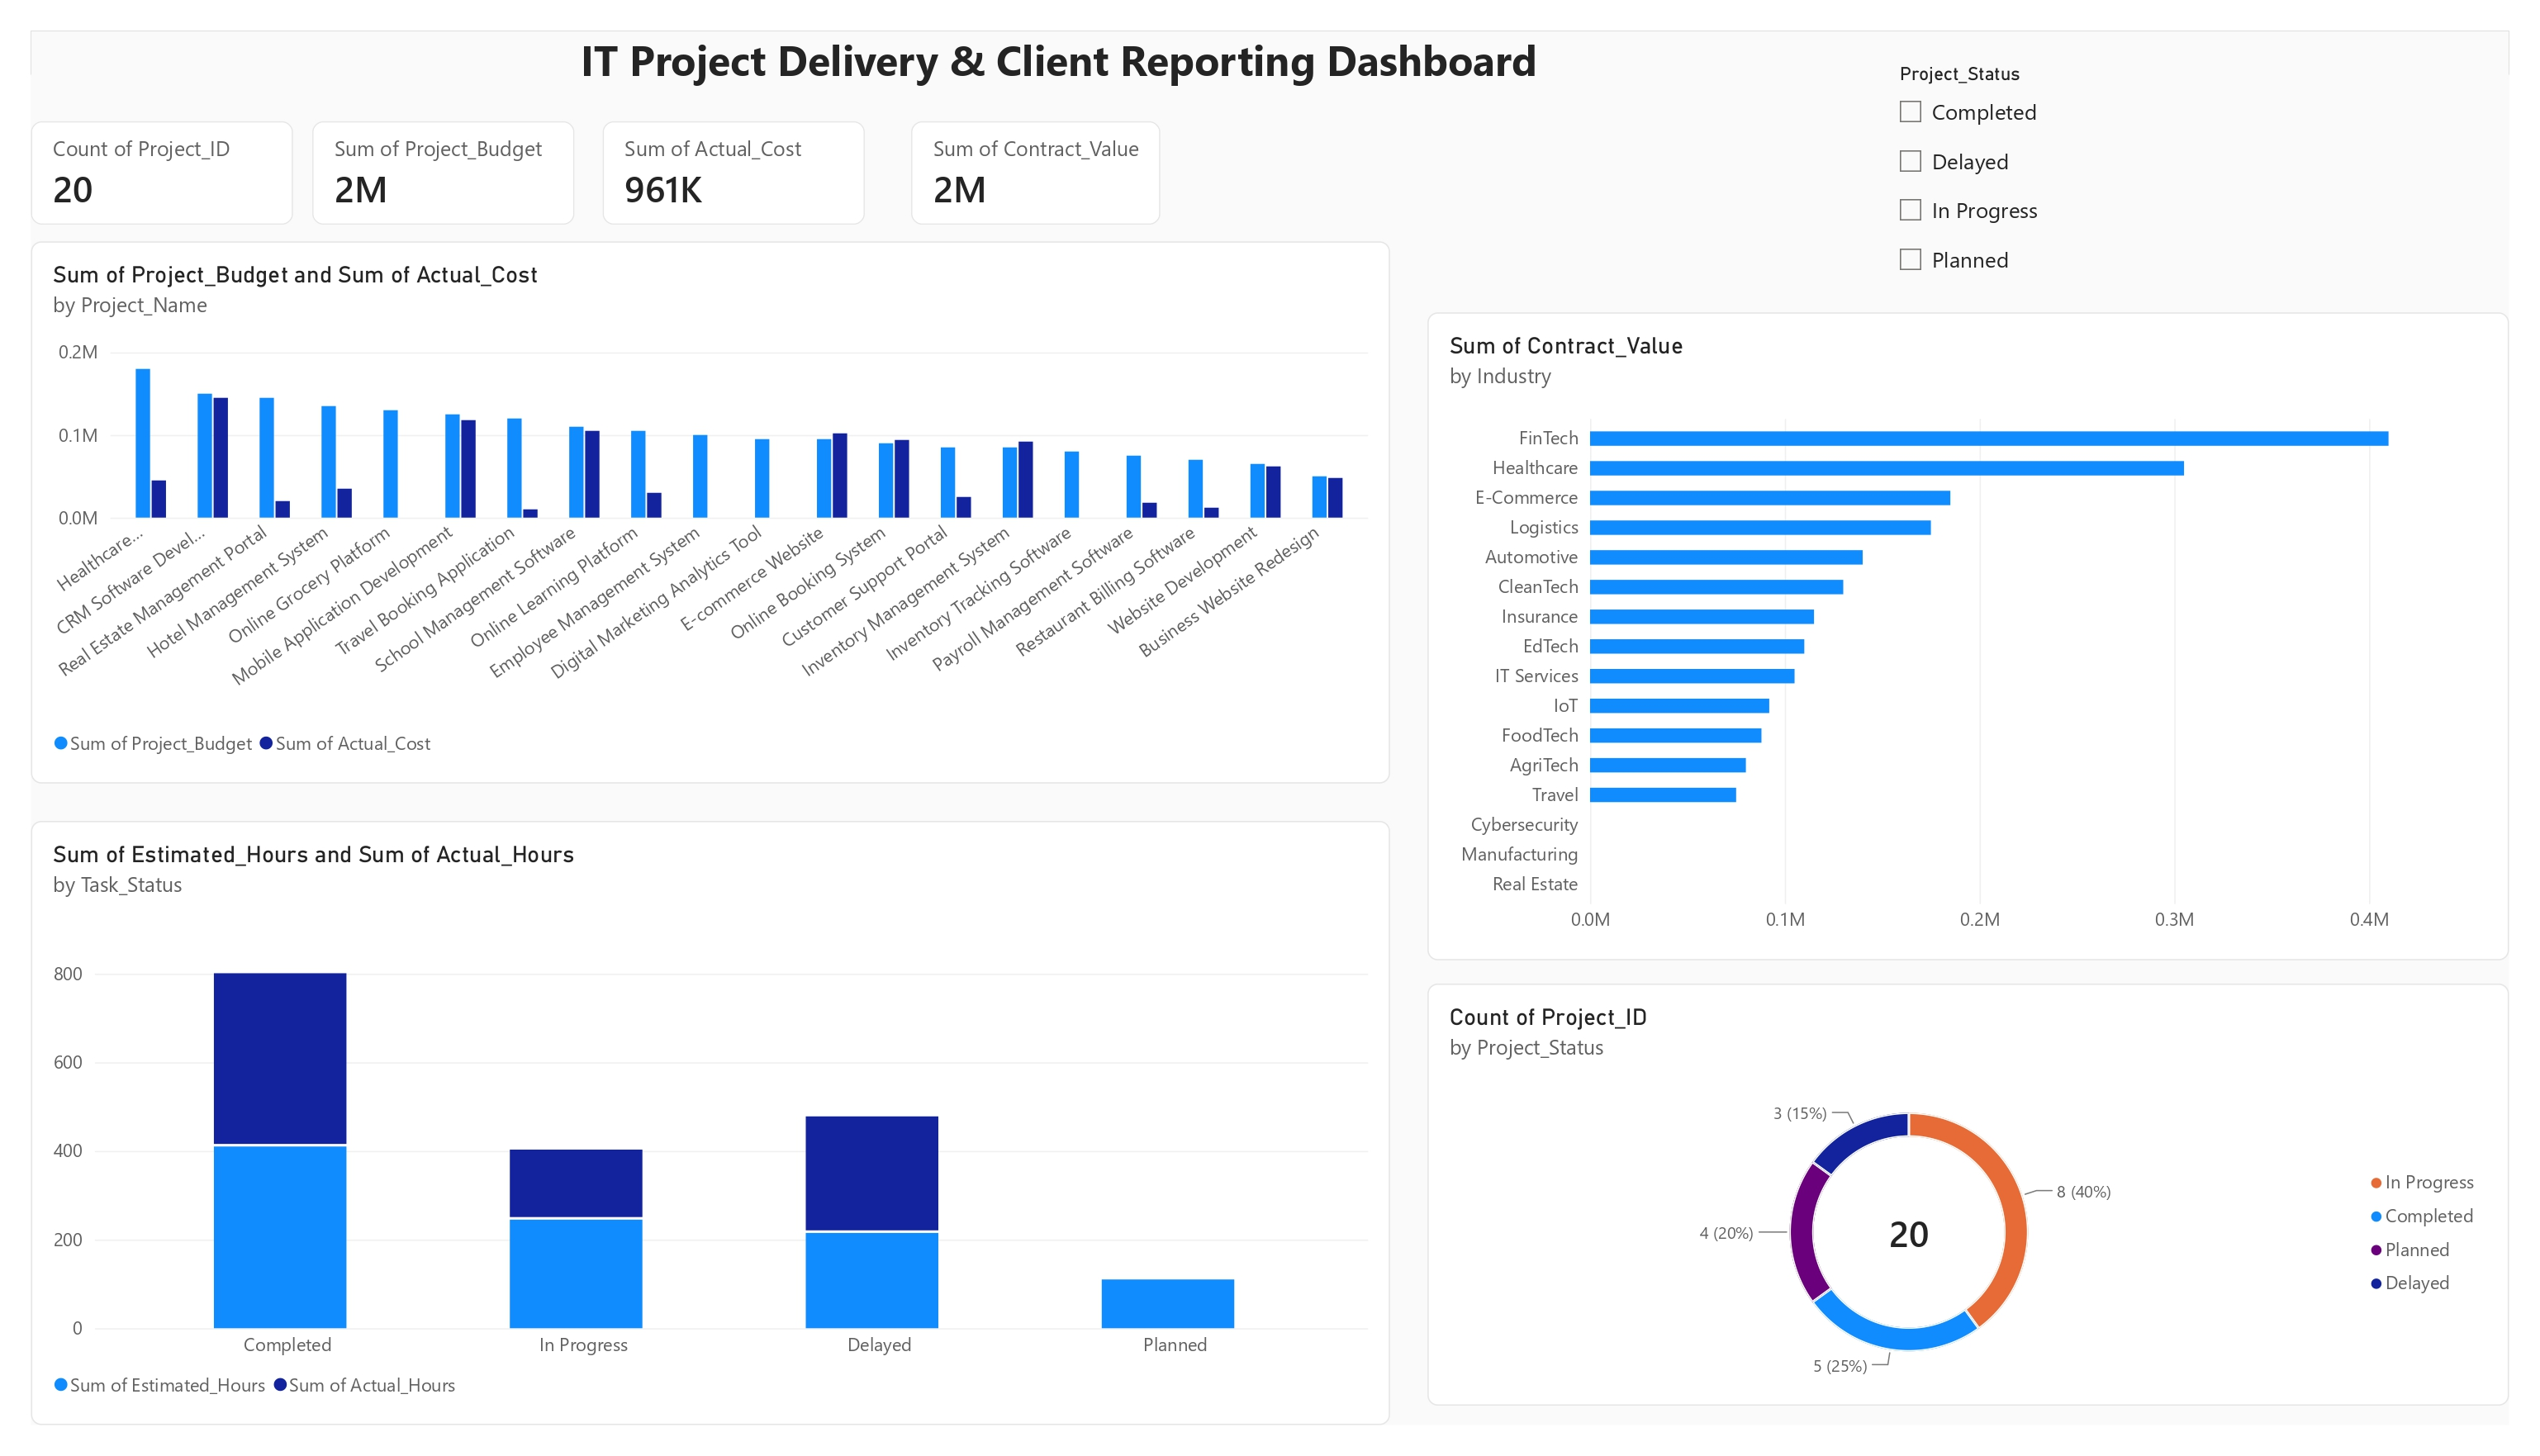

Layout of this report page (visuals, bound fields, positions):
{"tool":"powerbi","page":{"name":"Page 1","canvas":[1920,1080],"ordinal":0},"visuals":[{"type":"textbox","box":[368.3,0,856.7,50],"z":0},{"type":"cardVisual","fields":{"Data":["CountNonNull(Projects.Project_ID)"]},"box":[0,70,203.3,80],"z":1000},{"type":"cardVisual","fields":{"Data":["Sum(Projects.Project_Budget)"]},"box":[218.3,70,203.3,80],"z":2000},{"type":"cardVisual","fields":{"Data":["Sum(Projects.Actual_Cost)"]},"box":[443.3,70,203.3,80],"z":3000},{"type":"cardVisual","fields":{"Data":["Sum(Clients.Contract_Value)"]},"box":[681.7,70,193.3,80],"z":4000},{"type":"clusteredColumnChart","fields":{"Category":["Projects.Project_Name"],"Y":["Sum(Projects.Project_Budget)","Sum(Projects.Actual_Cost)"]},"box":[0,230,1053.3,446.7],"z":5000},{"type":"donutChart","fields":{"Category":["Projects.Project_Status"],"Y":["CountNonNull(Projects.Project_ID)"]},"box":[1081.7,738.3,838.3,326.7],"z":6000},{"type":"columnChart","fields":{"Category":["Tasks.Task_Status"],"Y":["Sum(Tasks.Estimated_Hours)","Sum(Tasks.Actual_Hours)"]},"box":[0,738.3,1053.3,341.7],"z":8000},{"type":"slicer","fields":{"Values":["Projects.Project_Status"]},"box":[1440,25,151.7,175],"z":9000},{"type":"clusteredBarChart","fields":{"Category":["Clients.Industry"],"Y":["Sum(Clients.Contract_Value)"]},"box":[1081.7,216.7,801.7,490],"z":9001}]}

Visuals, with their boxes on the page's 1920x1080 design canvas (x1, y1, x2, y2). These are canvas units, not pixel positions in the 2540x1456 screenshot, which may show the page scaled, cropped or inside an application window:
textbox: bbox=(368, 0, 1225, 50)
cardVisual - CountNonNull(Projects.Project_ID): bbox=(0, 70, 203, 150)
cardVisual - Sum(Projects.Project_Budget): bbox=(218, 70, 422, 150)
cardVisual - Sum(Projects.Actual_Cost): bbox=(443, 70, 647, 150)
cardVisual - Sum(Clients.Contract_Value): bbox=(682, 70, 875, 150)
clusteredColumnChart - Projects.Project_Name x Sum(Projects.Project_Budget): bbox=(0, 230, 1053, 677)
donutChart - Projects.Project_Status x CountNonNull(Projects.Project_ID): bbox=(1082, 738, 1920, 1065)
columnChart - Tasks.Task_Status x Sum(Tasks.Estimated_Hours): bbox=(0, 738, 1053, 1080)
slicer - Projects.Project_Status: bbox=(1440, 25, 1592, 200)
clusteredBarChart - Clients.Industry x Sum(Clients.Contract_Value): bbox=(1082, 217, 1883, 707)
